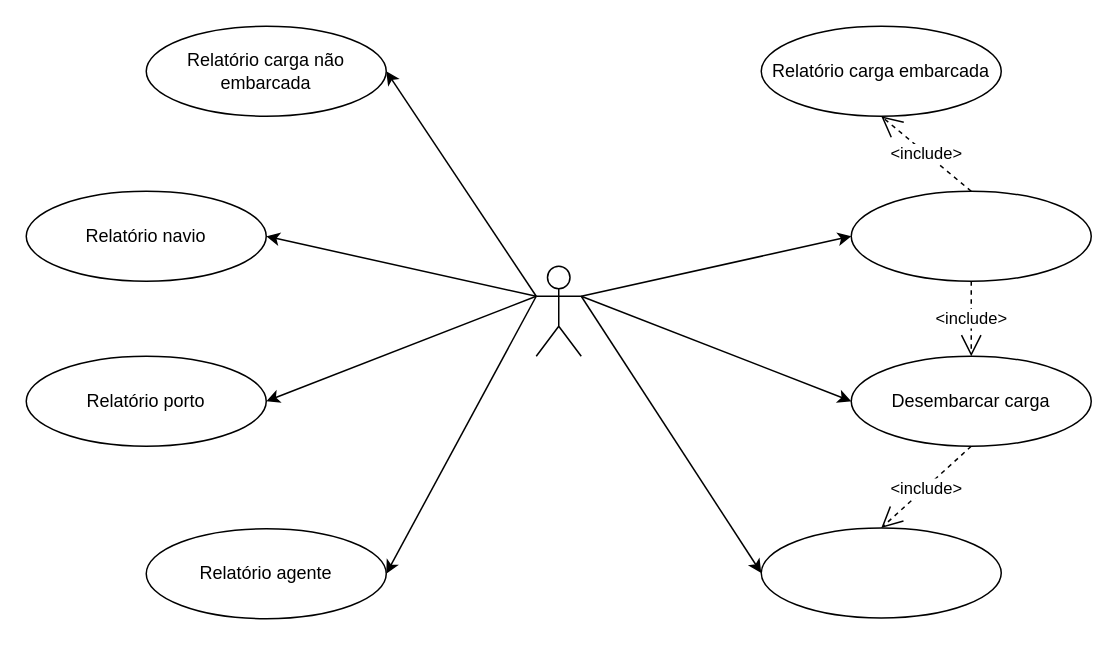
Some shapes in this 1118 by 645 pixel diagram are drawn without their labels. Each missing label, with the box of its shape:
Embarcar carga: (850, 190, 1091, 281)
Entregar carga: (760, 526, 1001, 618)
Supervisor: (535, 265, 581, 356)
